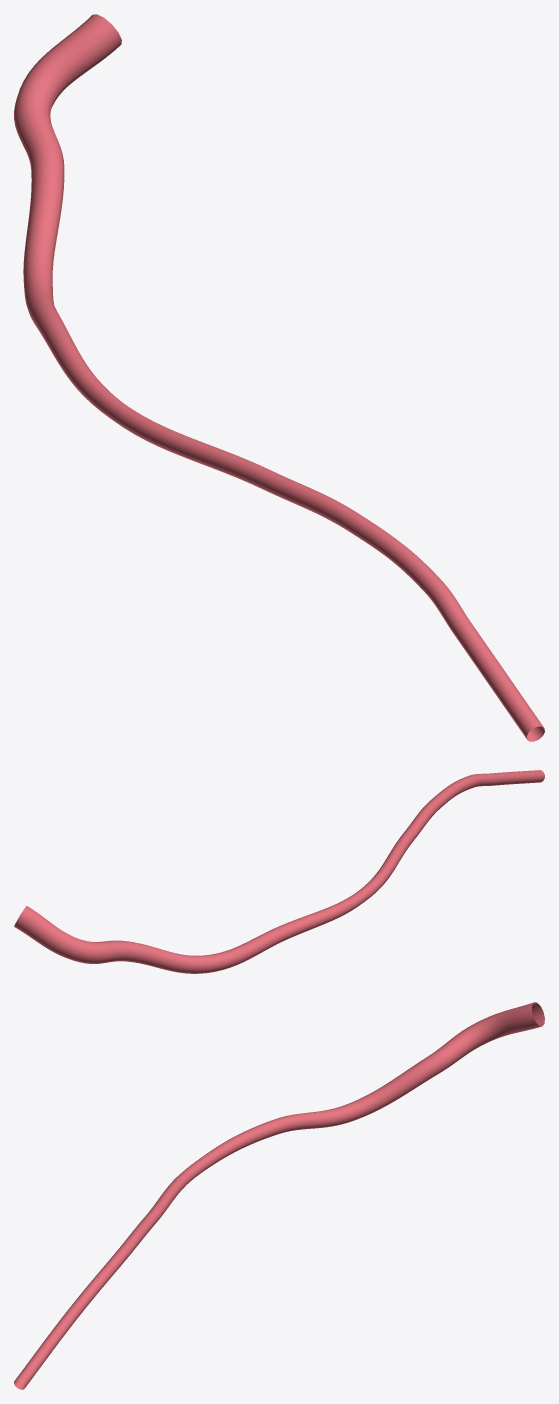
The picture shows the model from 3 angles, top to bottom: view 1: azimuth 30°, elevation 25°; view 2: azimuth 150°, elevation 25°; view 3: azimuth 330°, elevation 25°; orthographic projection. The views are drawn at different scales.
Parts seen in each view (by area): view 1: ZA_63bbe870b7f01702; view 2: ZA_63bbe870b7f01702; view 3: ZA_63bbe870b7f01702.
Part boxes in pixels (bbox=[...]): ZA_63bbe870b7f01702: bbox=[14, 14, 544, 741]; ZA_63bbe870b7f01702: bbox=[14, 770, 544, 973]; ZA_63bbe870b7f01702: bbox=[14, 1002, 544, 1389].
Size of the model in its own units: 0.016 by 0.0113 by 0.0624.
